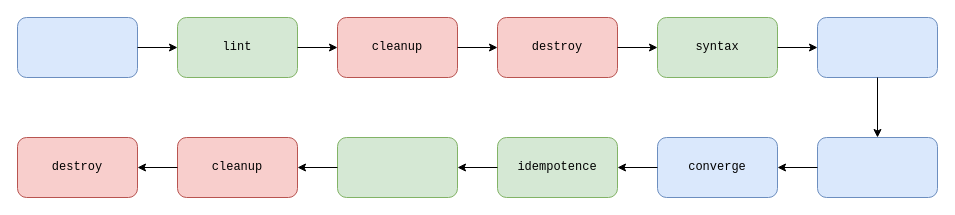
The diagram is 955 pixels wide and 215 high, and some of its shapes have lost their labels. The shapes that lost their labels are listed below. From the top down, each one's centre as x and y in pixels, then its label:
(77,47): dependency
(877,47): create
(397,167): verify
(877,167): prepare
